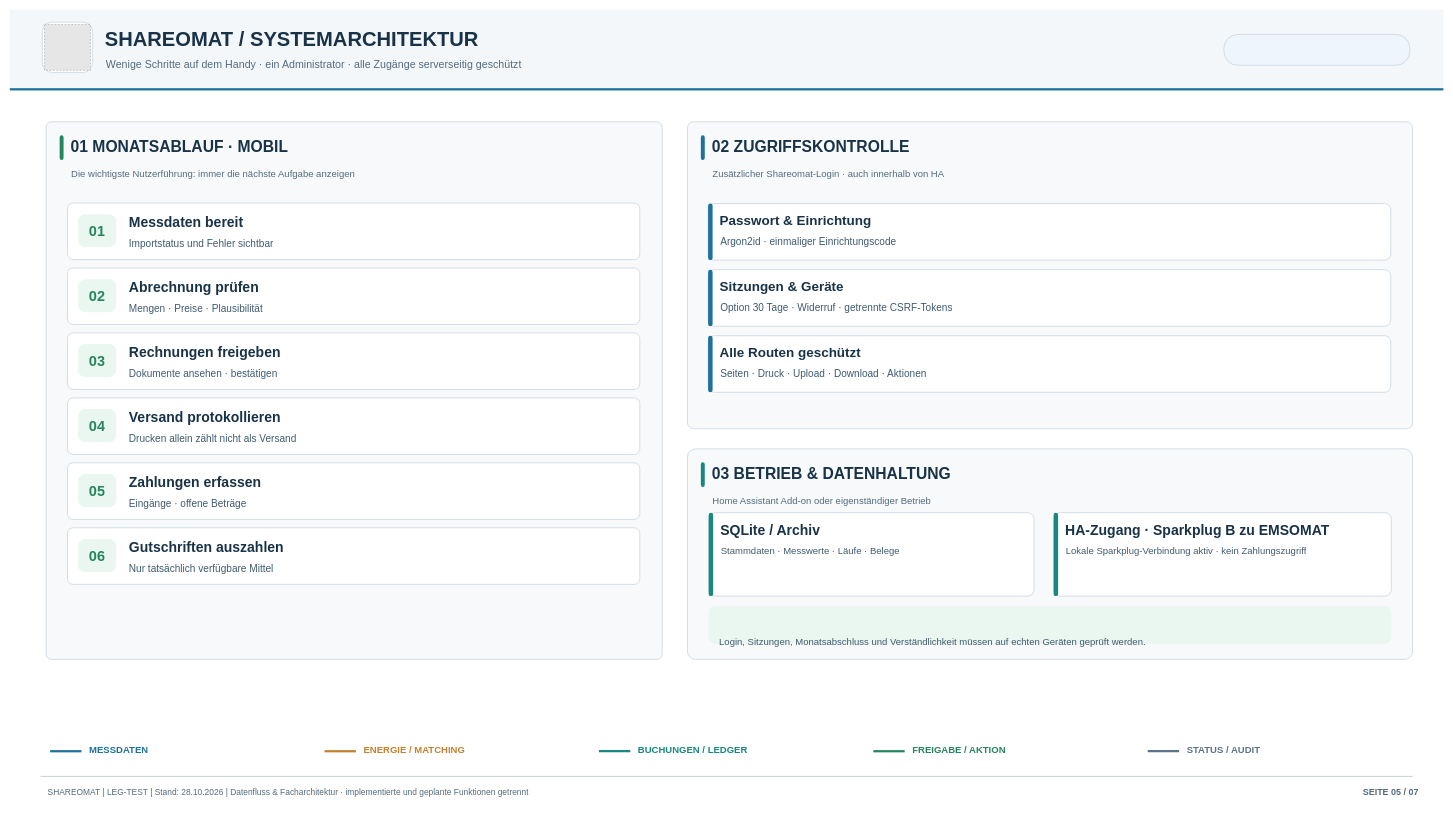
The diagram is 1453 pixels wide and 825 high, and some of its shapes have lost their labels. Grey dashed boxes stand in for pictures. The centre of each missing label's shape, as x and y in pixels:
"ENGINEERING · 05" goes at pixel 1316 49.
"HANDY-PRAXISTEST" goes at pixel 1049 624.
